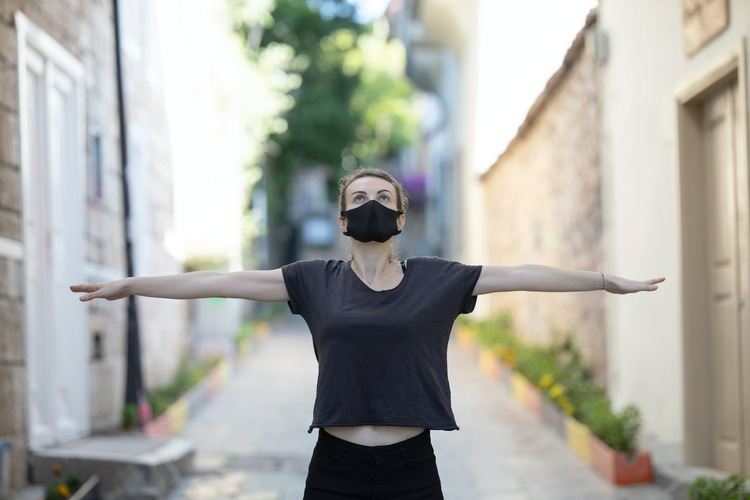with_mask: (344, 187, 400, 240)
